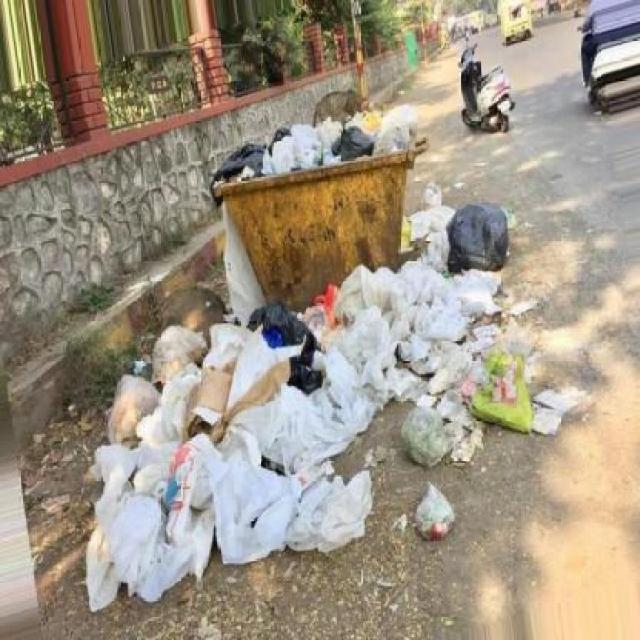garbage: (49, 285, 479, 606), (393, 183, 606, 434), (203, 111, 418, 176), (209, 203, 272, 306)
